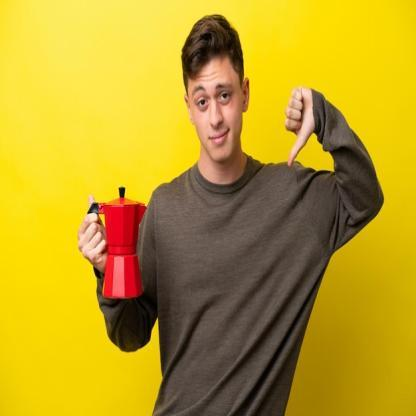thumb_down: (282, 80, 316, 170)
